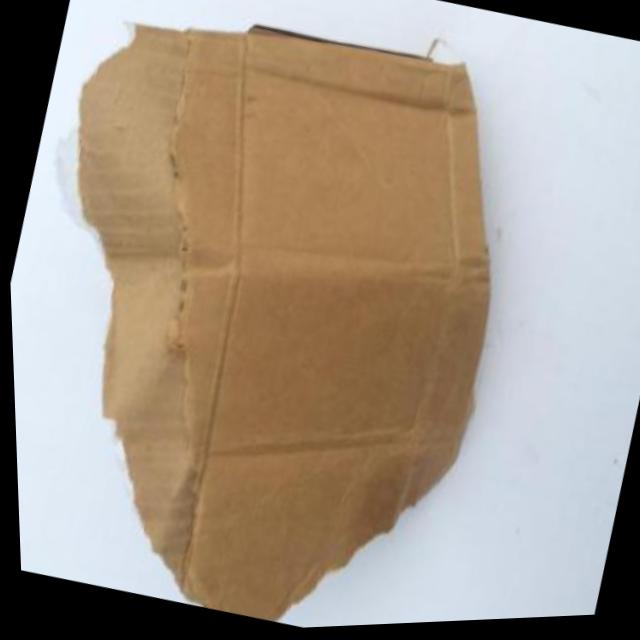box: (0, 0, 588, 640)
